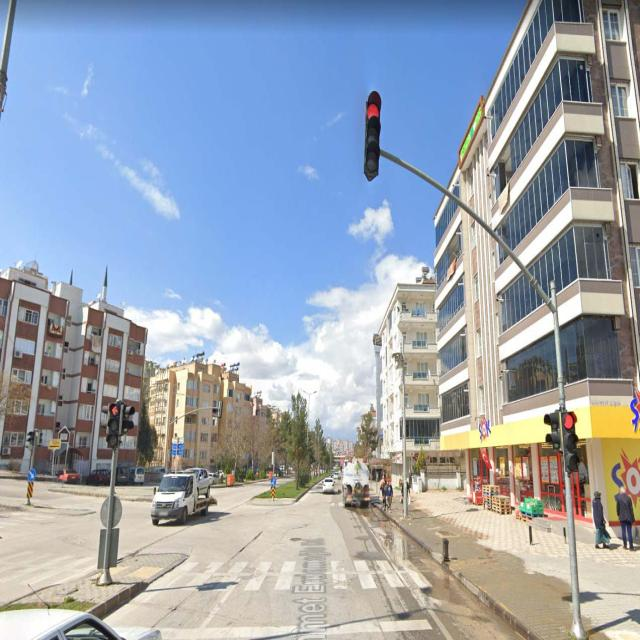ilerisol: (270, 479, 276, 486)
kirmizi: (561, 411, 580, 474), (365, 100, 381, 174)
